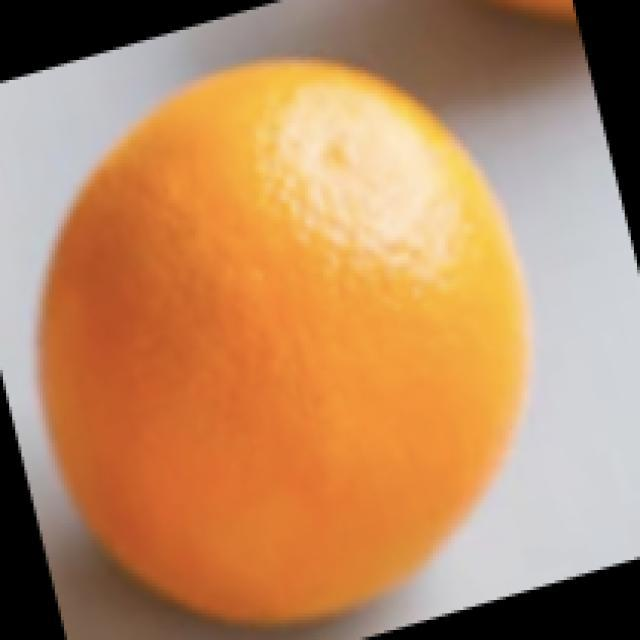matang: (41, 61, 527, 620)
